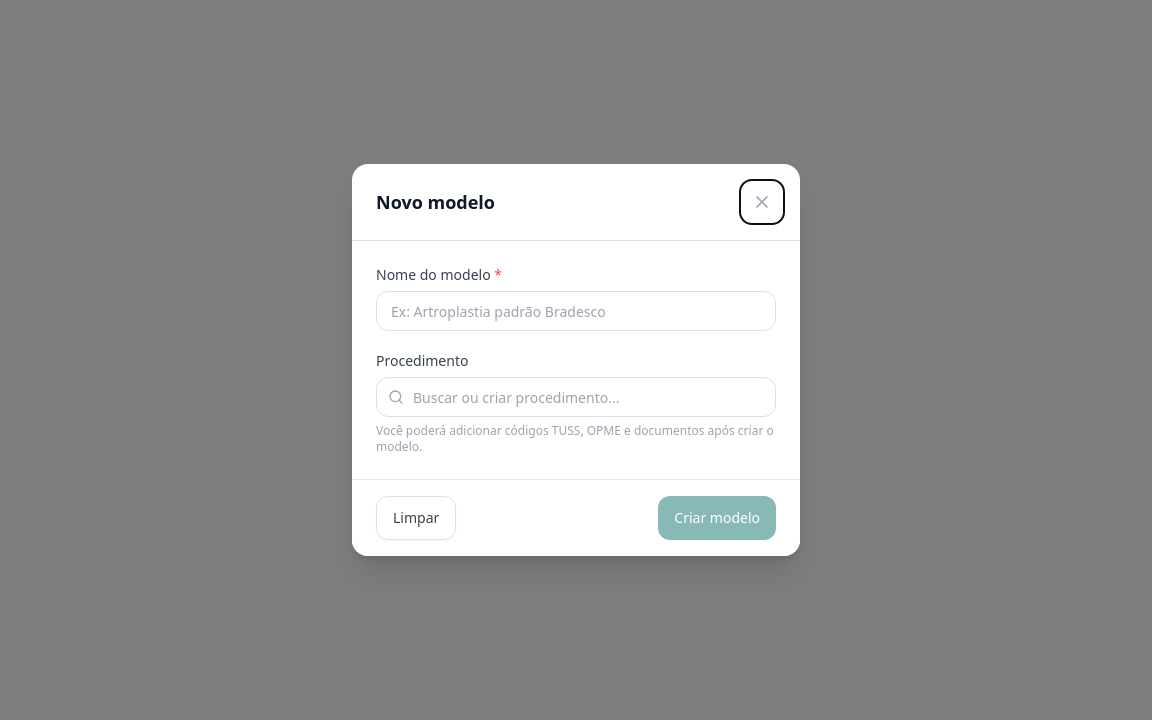
it: NewProcedureModelModal — guard emTour › mantém o botão habilitado fora do tour
Type "Teste" into the field with placeholder "Ex: Artroplastia padrão Bradesco". click: (576, 311)
box: [376, 291, 776, 331]
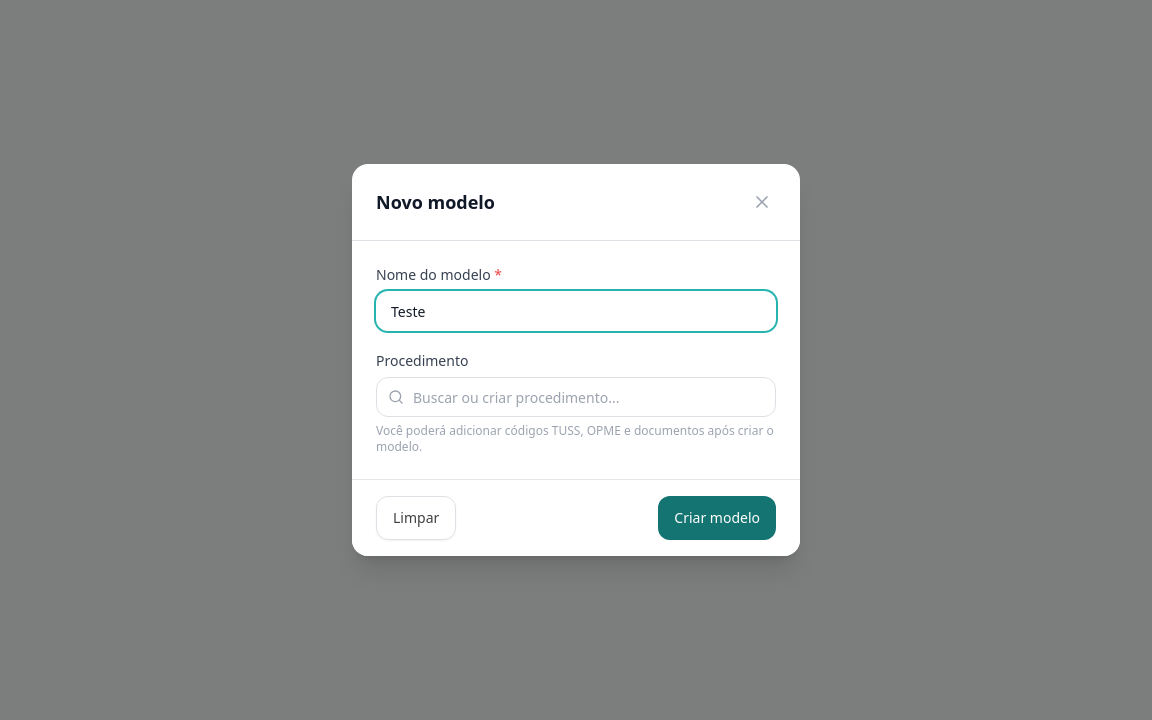
Result: the button "Criar modelo" is enabled at [658, 496, 776, 540]
